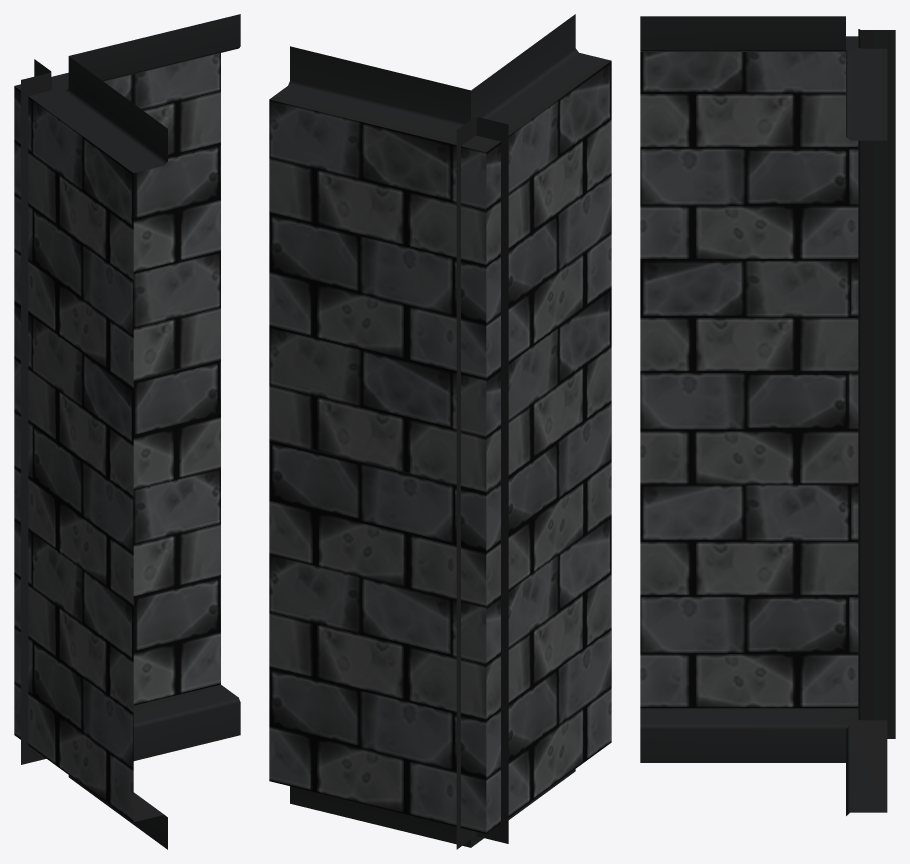
The model's file is M_Wall_Angle_Interior.fbx.
The picture shows the model from 3 angles, left to right: view 1: azimuth 30°, elevation 25°; view 2: azimuth 150°, elevation 25°; view 3: azimuth 270°, elevation 25°; orthographic projection. The views are drawn at different scales.
Parts seen in each view (by area): view 1: Wall_Angle_Interior; view 2: Wall_Angle_Interior; view 3: Wall_Angle_Interior.
Part boxes in pixels (left/top/right/bottom): Wall_Angle_Interior: left=14, top=14, right=240, bottom=849; Wall_Angle_Interior: left=269, top=14, right=611, bottom=849; Wall_Angle_Interior: left=640, top=16, right=895, bottom=815.
Size of the model in its own units: 124 by 400 by 124.
